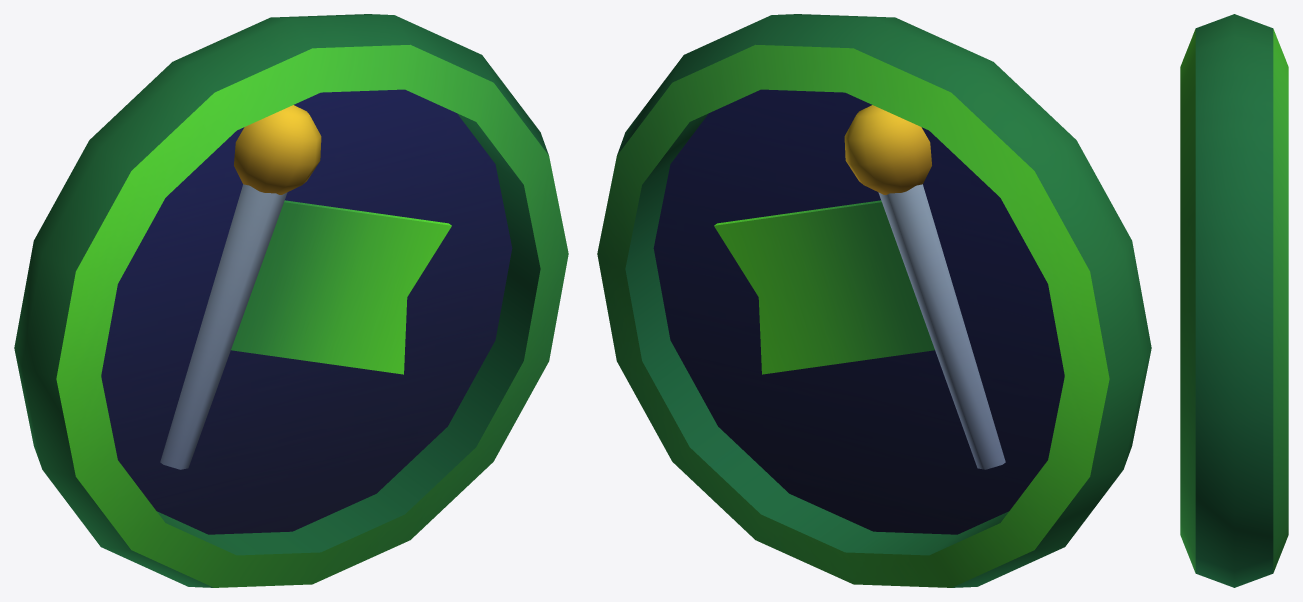
The model's file is ModeIcons.fbx_Base.fbx.
3 views of the same model, side by side, from view 1: azimuth 30°, elevation 25°; view 2: azimuth 150°, elevation 25°; view 3: azimuth 270°, elevation 25° (orthographic). The views are drawn at different scales.
Parts seen in each view (by area): view 1: BackgroundBase, ModeBase; view 2: BackgroundBase, ModeBase; view 3: BackgroundBase.
Boxes of the visible parts, x1=… form: BackgroundBase: x1=14, y1=14, x2=568, y2=587; ModeBase: x1=160, y1=105, x2=451, y2=469; BackgroundBase: x1=597, y1=14, x2=1151, y2=587; ModeBase: x1=714, y1=105, x2=1005, y2=469; BackgroundBase: x1=1180, y1=14, x2=1288, y2=587.
Bounding box in the file's own units: 2 × 2 × 0.3776.
